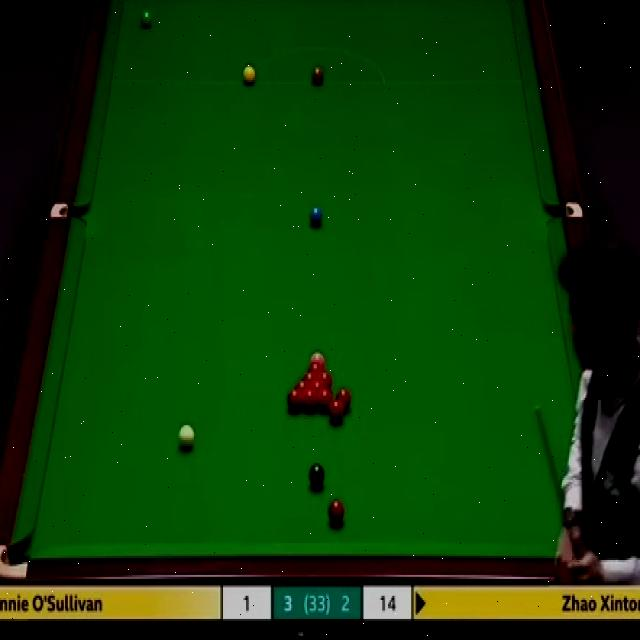black-ball: (309, 463, 326, 490)
blue-ball: (309, 206, 323, 227)
brown-ball: (311, 66, 324, 86)
green-ball: (140, 10, 152, 30)
pink-ball: (309, 349, 327, 364)
red-ball: (328, 499, 343, 526), (286, 388, 302, 411), (336, 388, 351, 412), (318, 389, 333, 412), (302, 388, 317, 410), (329, 401, 343, 424), (318, 370, 332, 387), (305, 359, 324, 370), (302, 370, 318, 380), (309, 380, 326, 389), (294, 380, 310, 389)
white-ball: (178, 424, 195, 452)
yellow-ball: (242, 64, 256, 84)
